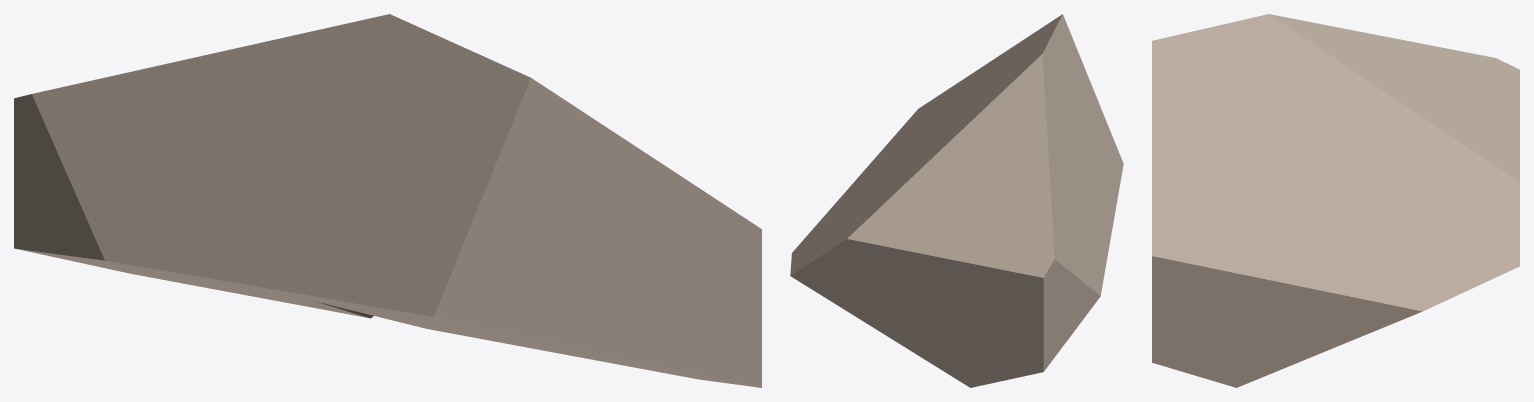
The model's file is JaggedRock2.glb.
3 renders of one model, left to right at view 1: azimuth 30°, elevation 25°; view 2: azimuth 150°, elevation 25°; view 3: azimuth 270°, elevation 25°, orthographic. The views are drawn at different scales.
Parts seen in each view (by area): view 1: JaggedRock2; view 2: JaggedRock2; view 3: JaggedRock2.
Part boxes in pixels (box(x1,y1,x2,y2)): JaggedRock2: box(14, 14, 761, 387); JaggedRock2: box(790, 14, 1123, 387); JaggedRock2: box(1152, 14, 1519, 387).
Size of the model in its own units: 0.7062 by 0.5944 by 0.7062.
